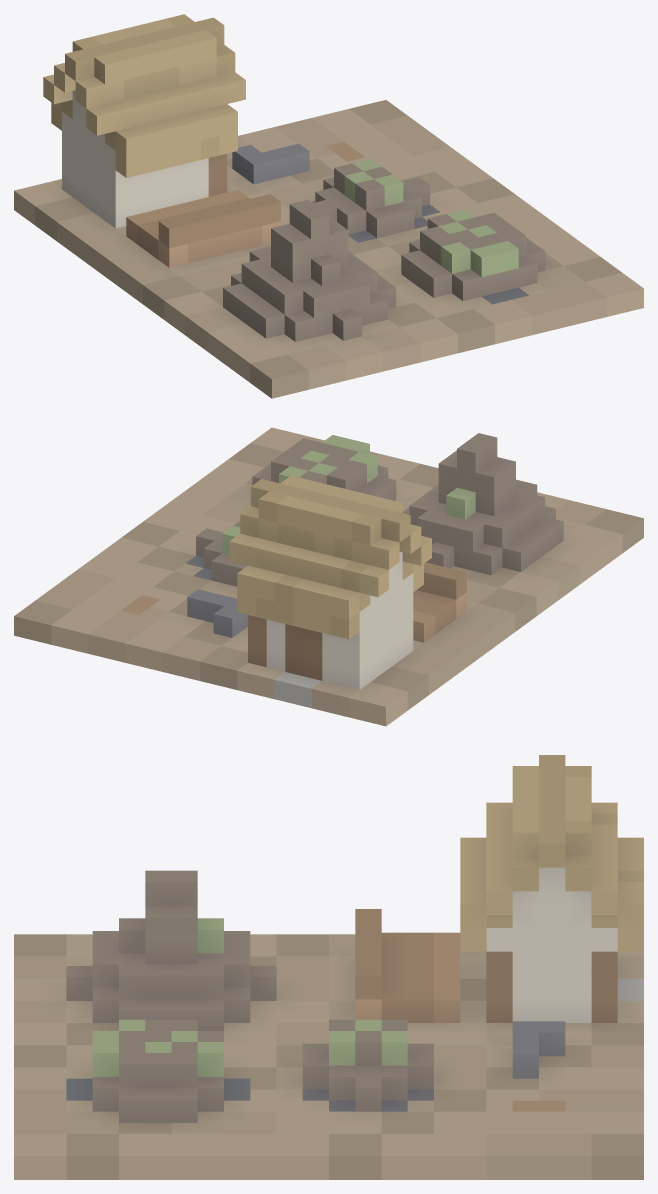
File: charcoal_burner.lite.glb
3 renders of one model, top to bottom at view 1: azimuth 30°, elevation 25°; view 2: azimuth 150°, elevation 25°; view 3: azimuth 270°, elevation 25°, orthographic. The views are drawn at different scales.
Parts seen in each view (by area): view 1: charcoal_burner; view 2: charcoal_burner; view 3: charcoal_burner.
Boxes of the visible parts, x1,y1,x2,y2 form: charcoal_burner: [14, 14, 643, 398]; charcoal_burner: [14, 427, 643, 726]; charcoal_burner: [14, 755, 643, 1179].
Bounding box in the file's own units: 5 × 2.25 × 6.
